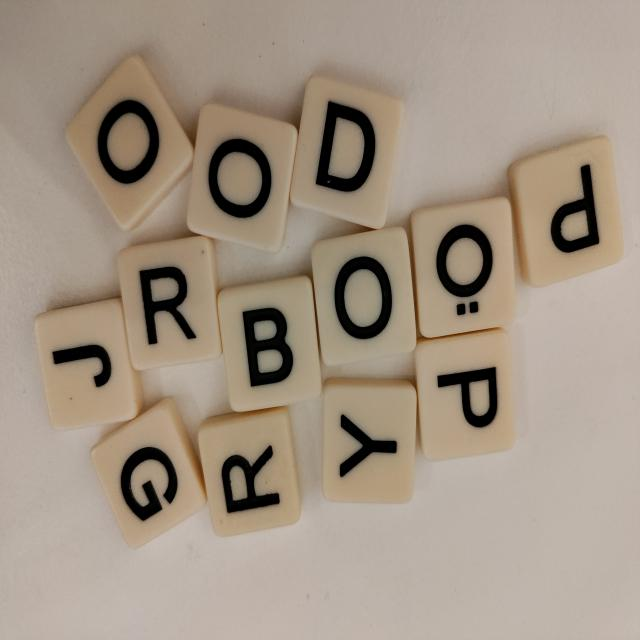b: (216, 275, 324, 415)
d: (288, 73, 409, 232)
g: (85, 395, 212, 554)
j: (33, 297, 143, 434)
o: (62, 49, 197, 240), (184, 100, 301, 257), (310, 225, 418, 369)
o_dot: (408, 195, 518, 341)
p: (507, 134, 625, 295), (413, 329, 517, 464)
r: (116, 233, 224, 372), (196, 405, 303, 539)
y: (321, 377, 417, 506)
